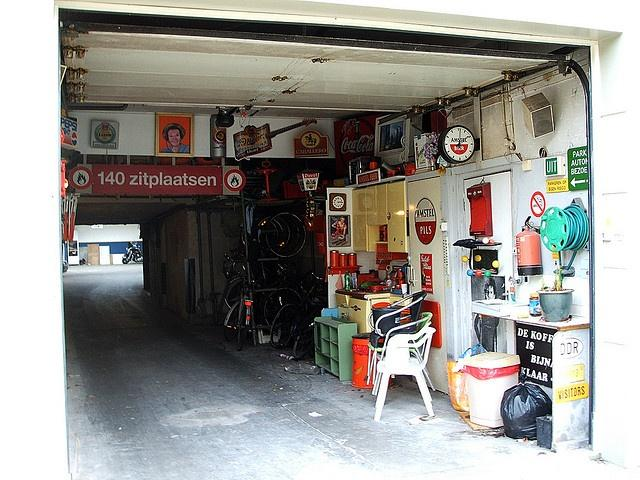APAR: (514, 215, 543, 276)
